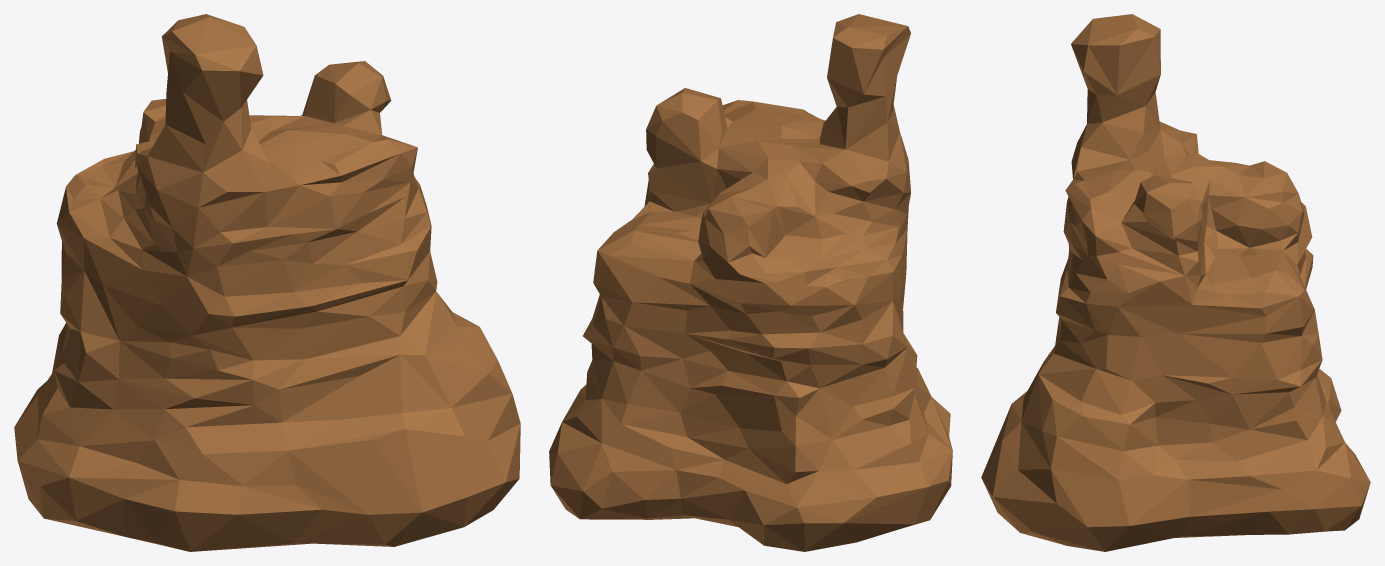
Rendered from desertMountain.fbx.
The picture shows the model from 3 angles, left to right: view 1: azimuth 30°, elevation 25°; view 2: azimuth 150°, elevation 25°; view 3: azimuth 270°, elevation 25°; orthographic projection. The views are drawn at different scales.
Visible parts, largest first — view 1: Cube.004; view 2: Cube.004; view 3: Cube.004.
Boxes of the visible parts, x1,y1,x2,y2 form: Cube.004: (14,14,520,551); Cube.004: (549,14,952,551); Cube.004: (981,14,1370,551).
Size of the model in its own units: 15.92 by 18.1 by 15.1.
